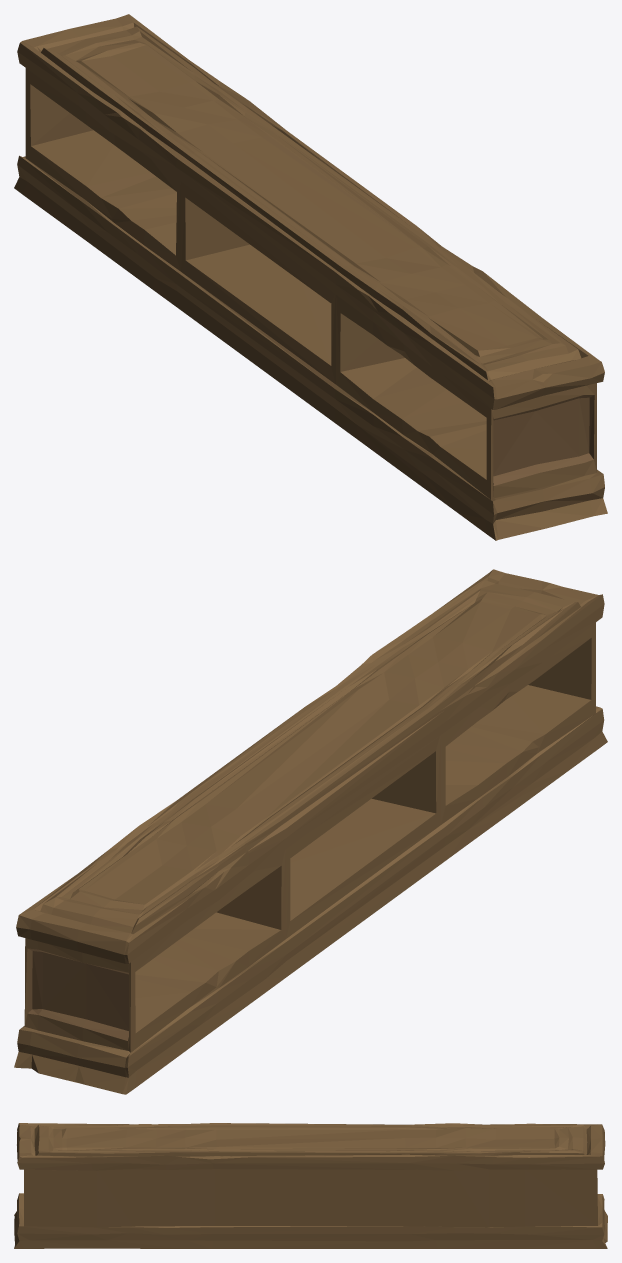
File: SFI_Stand_Mirror.fbx
The picture shows the model from 3 angles, top to bottom: view 1: azimuth 30°, elevation 25°; view 2: azimuth 150°, elevation 25°; view 3: azimuth 270°, elevation 25°; orthographic projection. The views are drawn at different scales.
Visible parts, largest first — view 1: SFI_Stand_Mirror; view 2: SFI_Stand_Mirror; view 3: SFI_Stand_Mirror.
Part boxes in pixels (box(x1,y1,x2,y2)): SFI_Stand_Mirror: box(14, 14, 607, 540); SFI_Stand_Mirror: box(14, 569, 607, 1094); SFI_Stand_Mirror: box(14, 1123, 607, 1248).
Size of the model in its own units: 22.08 by 28.77 by 164.
